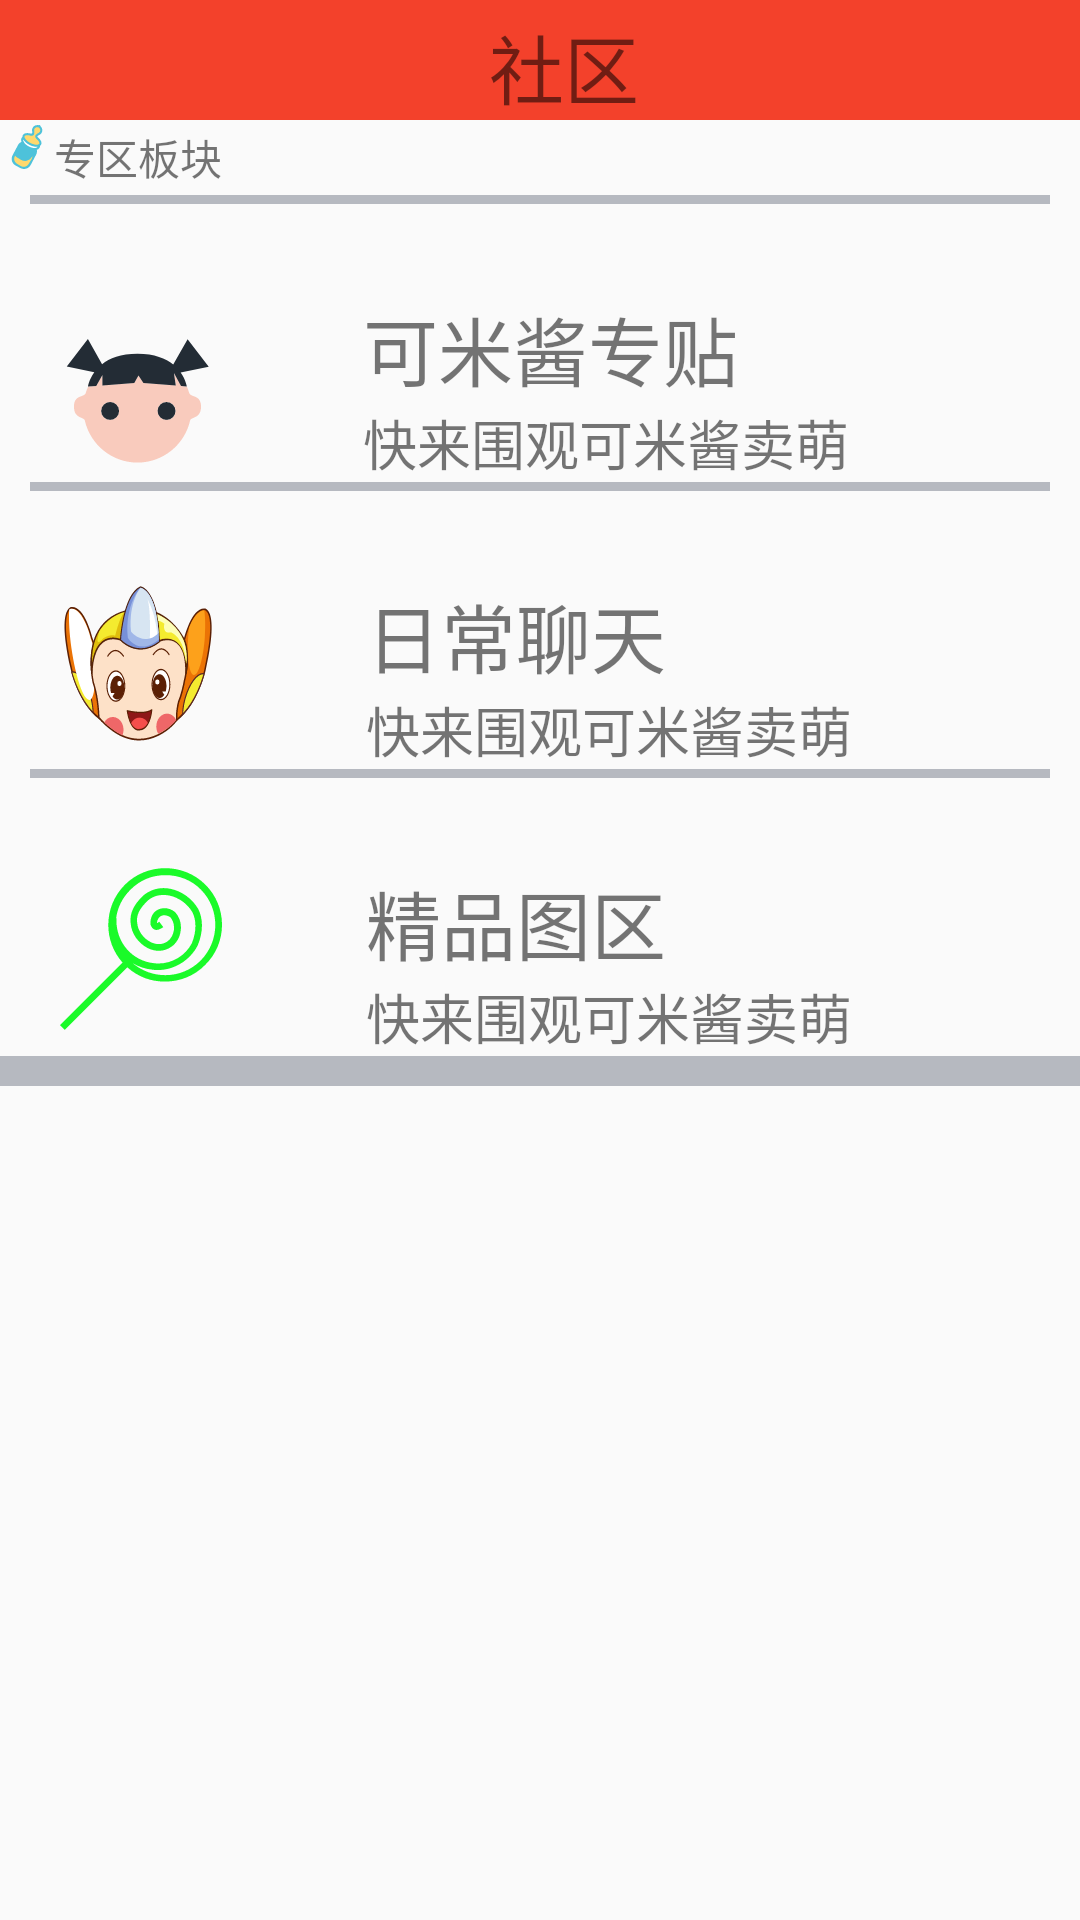

Point at icon controls on the screen. Image size 1080px×1920px, points as point (x, y).
naiping: point (27, 147)
